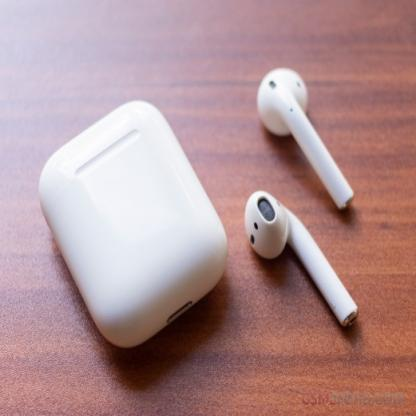Airpods: (240, 185, 360, 344), (259, 68, 360, 210)
